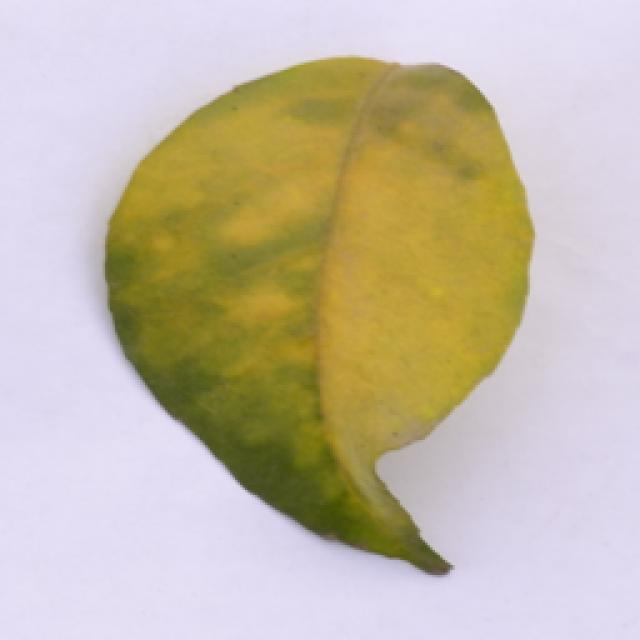greening: (80, 53, 548, 612)
